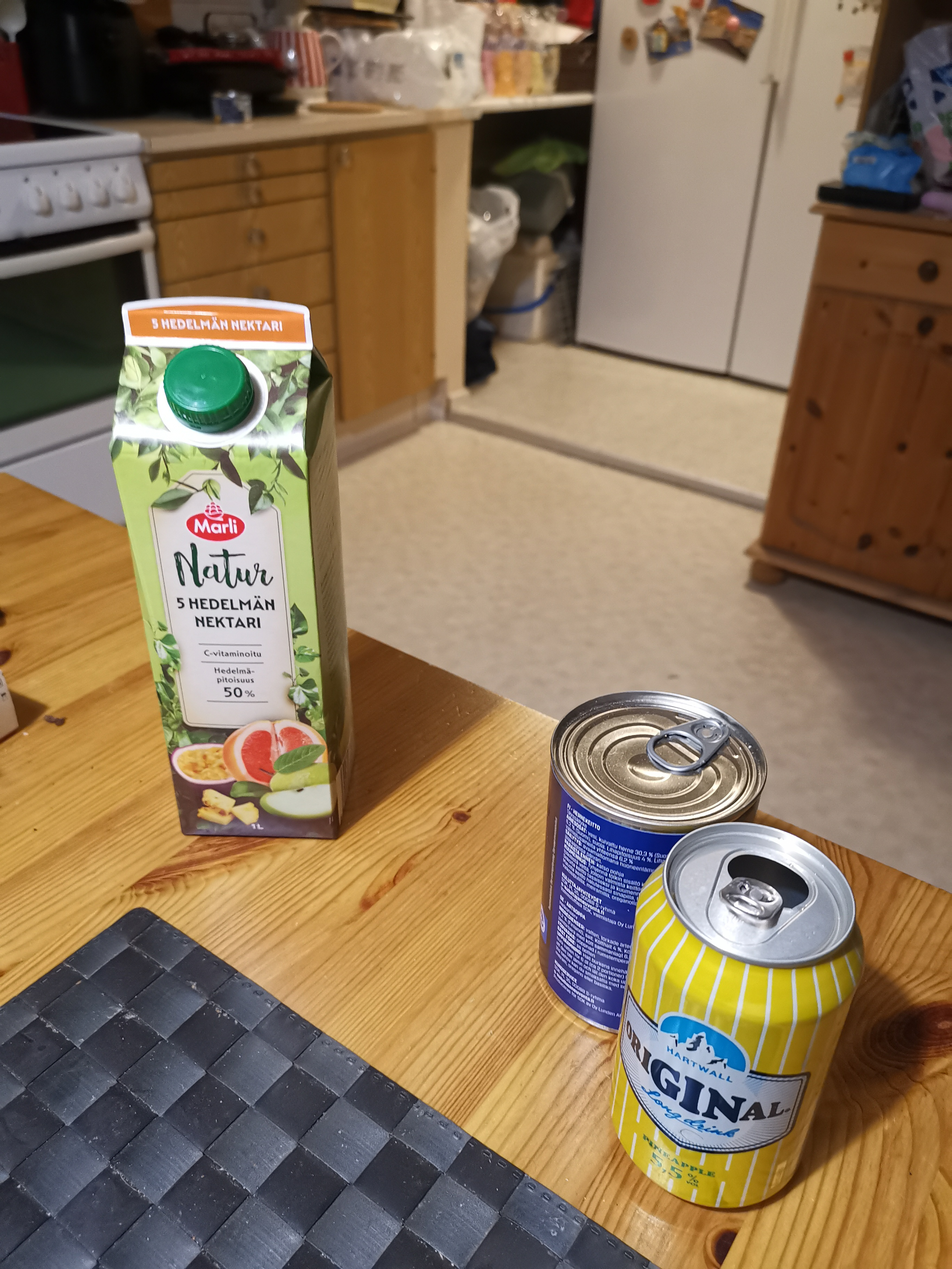Dryckeskartong: (105, 295, 360, 841)
Konservburk: (535, 688, 771, 1038)
Pantburk: (608, 819, 870, 1212)
